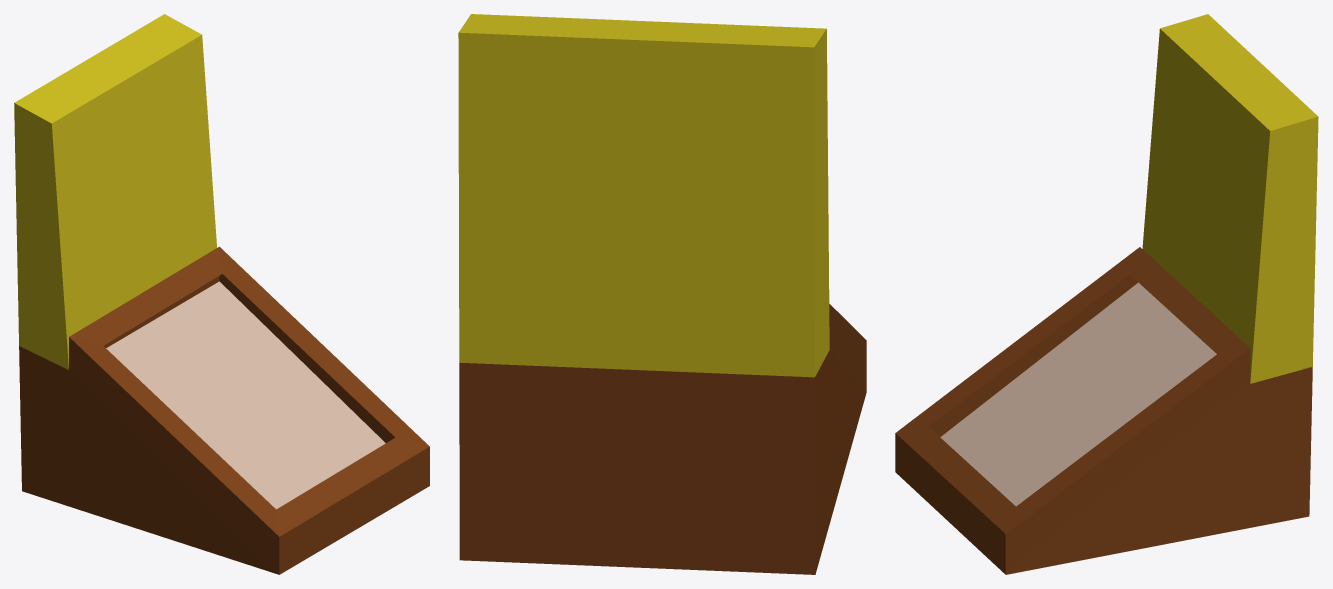
File: CanchaTejofbx.fbx
The picture shows the model from 3 angles, left to right: view 1: azimuth 30°, elevation 25°; view 2: azimuth 150°, elevation 25°; view 3: azimuth 270°, elevation 25°; orthographic projection. The views are drawn at different scales.
Parts seen in each view (by area): view 1: Cube; view 2: Cube; view 3: Cube.
Boxes of the visible parts, box(x1,y1,x2,y2) form: Cube: box(14, 14, 429, 574); Cube: box(458, 14, 866, 574); Cube: box(895, 14, 1318, 574).
Size of the model in its own units: 284 by 332 by 317.
